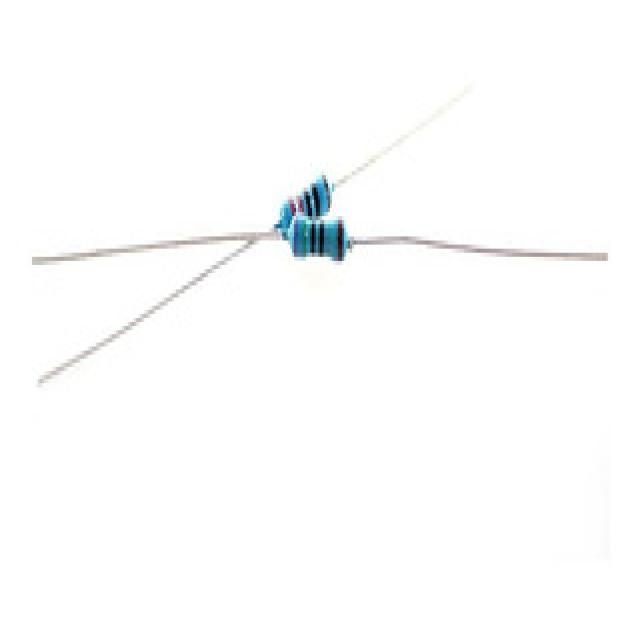Resistor: (275, 172, 335, 233), (280, 210, 350, 261)
